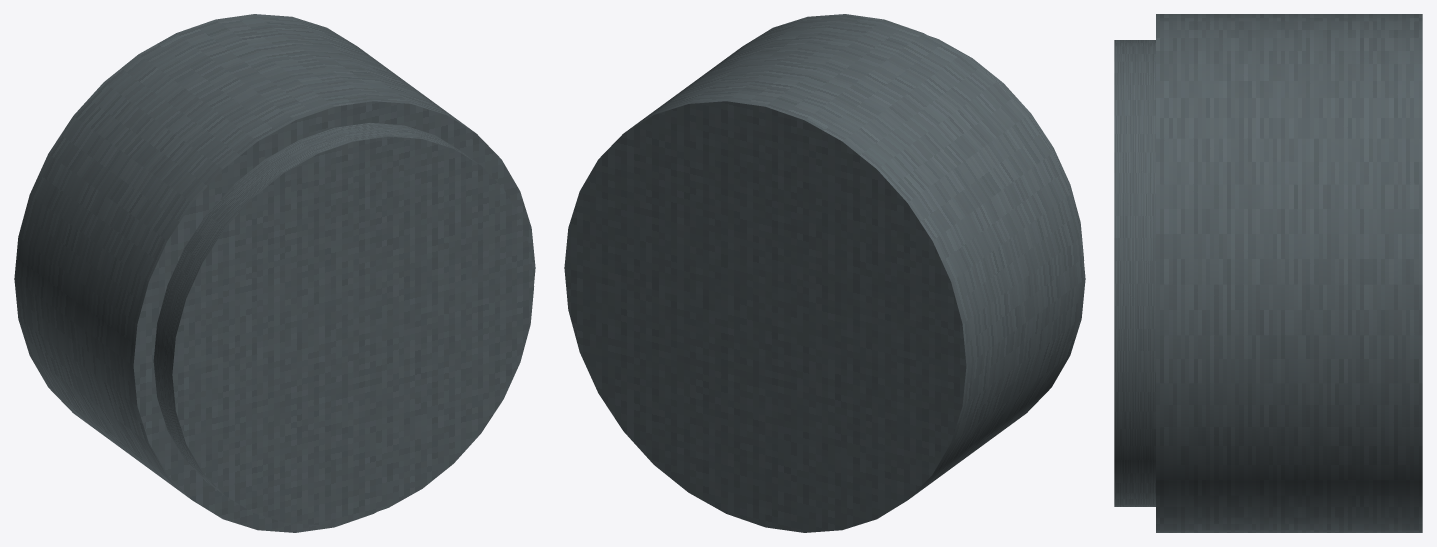
The model's file is regulator.glb.
3 views of the same model, side by side, from view 1: azimuth 30°, elevation 25°; view 2: azimuth 150°, elevation 25°; view 3: azimuth 270°, elevation 25° (orthographic). The views are drawn at different scales.
Visible parts, largest first — view 1: face, rim; view 2: rim, face; view 3: rim, face.
Part boxes in pixels (bbox=[...]): face: bbox=[153, 123, 534, 524]; rim: bbox=[14, 14, 535, 532]; rim: bbox=[564, 14, 1085, 532]; face: bbox=[928, 35, 1084, 260]; rim: bbox=[1156, 14, 1422, 532]; face: bbox=[1114, 40, 1155, 506].
Bounding box in the file's own units: 0.075 × 0.075 × 0.0445.
Materials: 1 (1 with a texture image).
